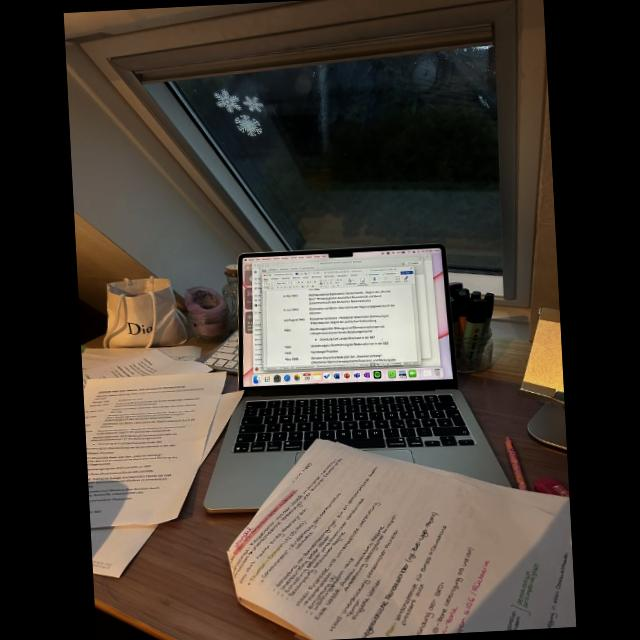laptop: (224, 230, 503, 512)
